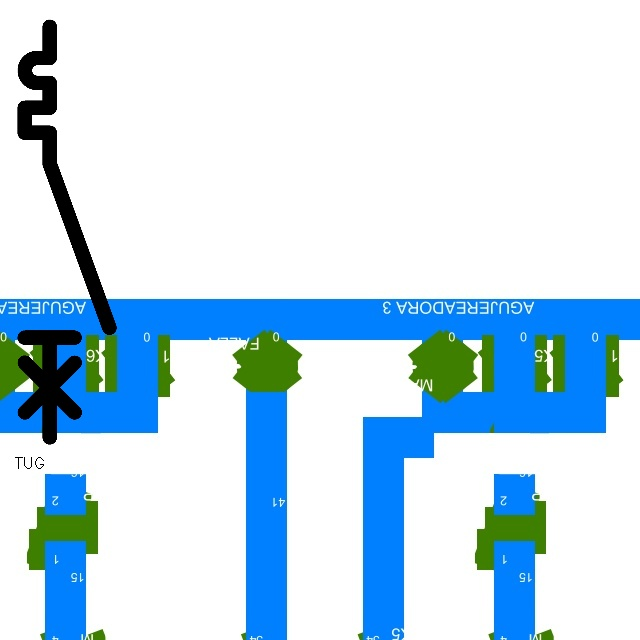interruptor_termomagnetico: (14, 16, 120, 448)
